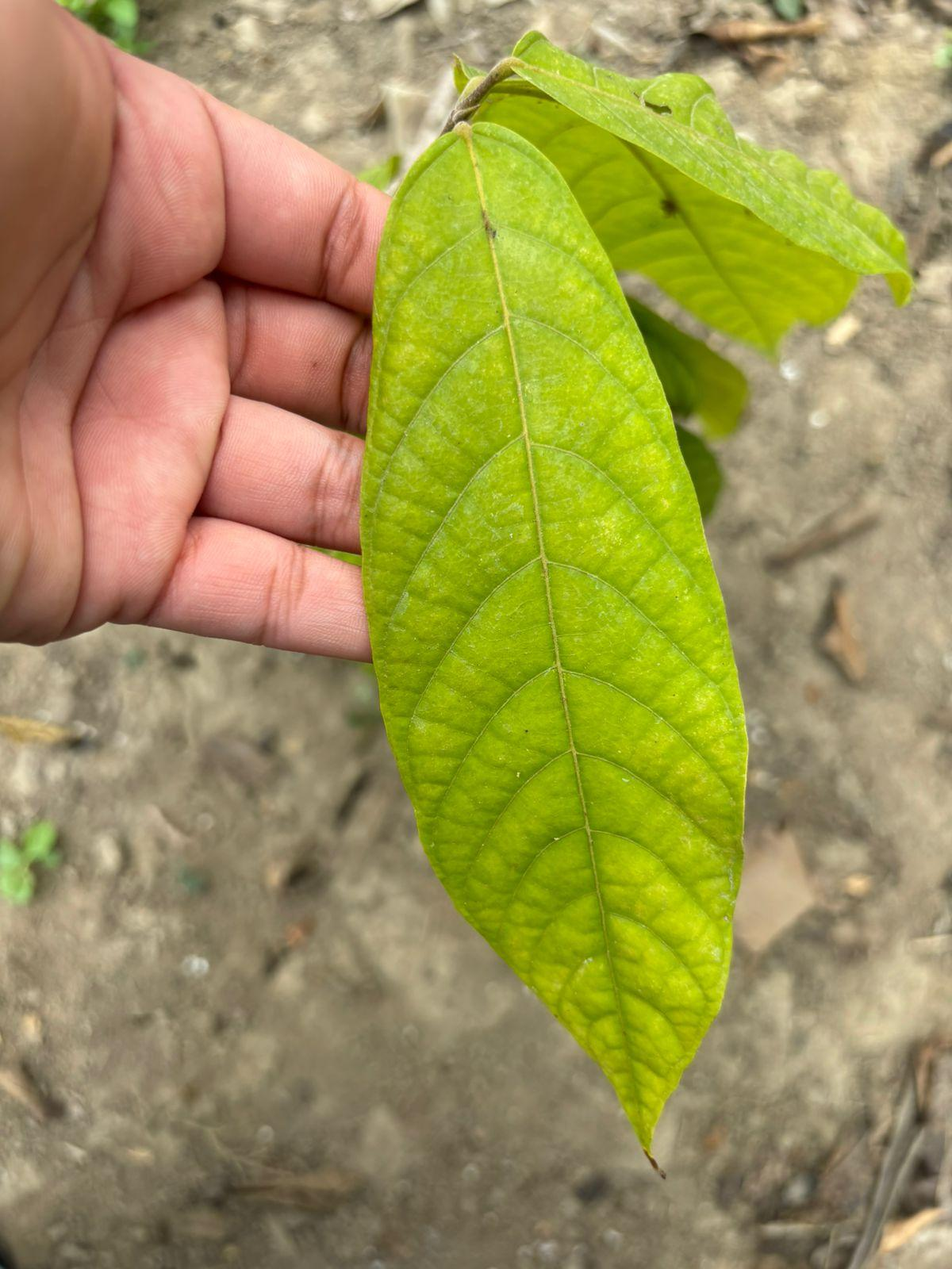deficiencia_nitrogeno: (362, 124, 745, 1150)
